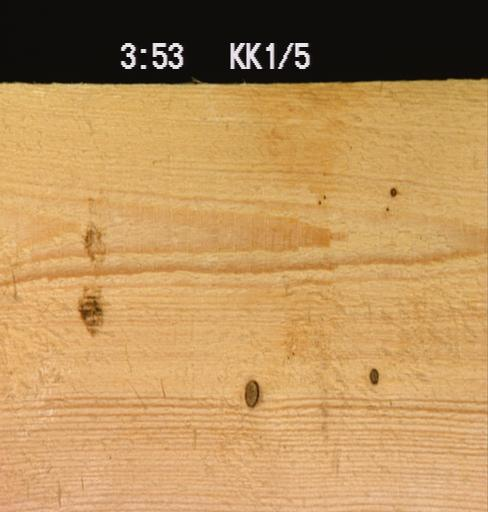dry_knot: (243, 376, 259, 407)
small_knot: (367, 364, 379, 384), (388, 184, 397, 197)
